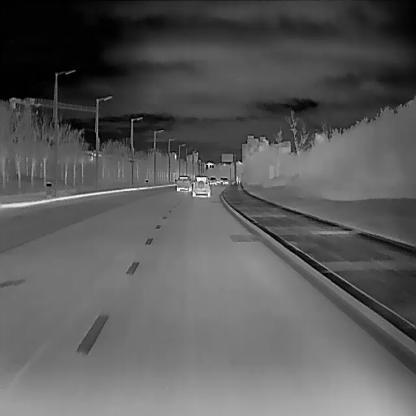car: (191, 175, 210, 196), (176, 175, 192, 192), (209, 176, 216, 186), (223, 177, 228, 185), (219, 177, 223, 181), (216, 179, 220, 183)
